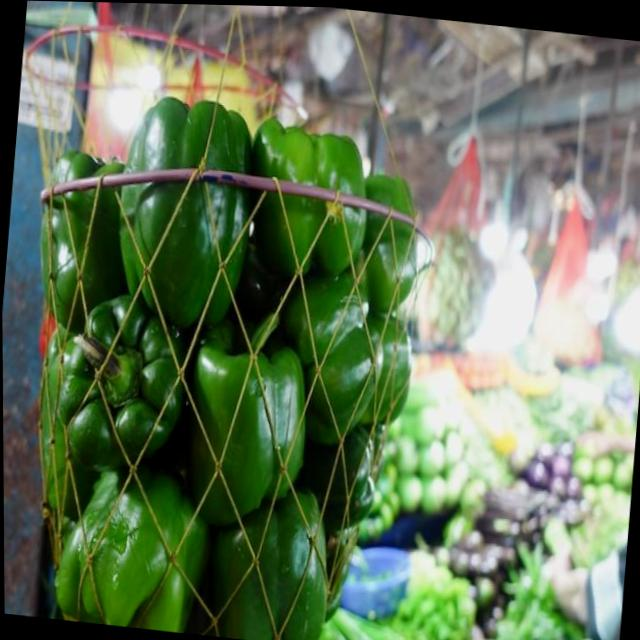Capsicum: (106, 89, 265, 322), (49, 287, 195, 481), (177, 324, 310, 526), (60, 455, 210, 631), (242, 115, 372, 285), (206, 480, 337, 640), (272, 265, 387, 445), (32, 146, 135, 336), (32, 325, 110, 519), (352, 163, 426, 315), (291, 415, 378, 532), (124, 91, 194, 189), (177, 96, 254, 178), (51, 509, 102, 622), (32, 194, 68, 312), (46, 147, 101, 208)
